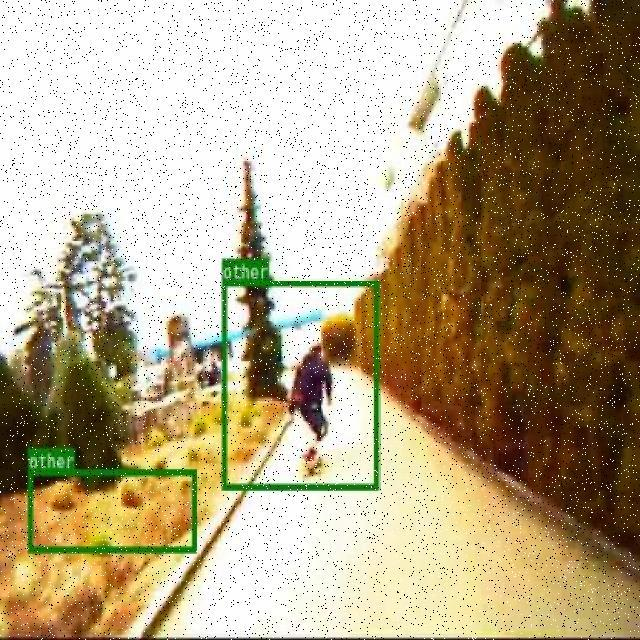other: (220, 280, 378, 489), (27, 468, 196, 552)
